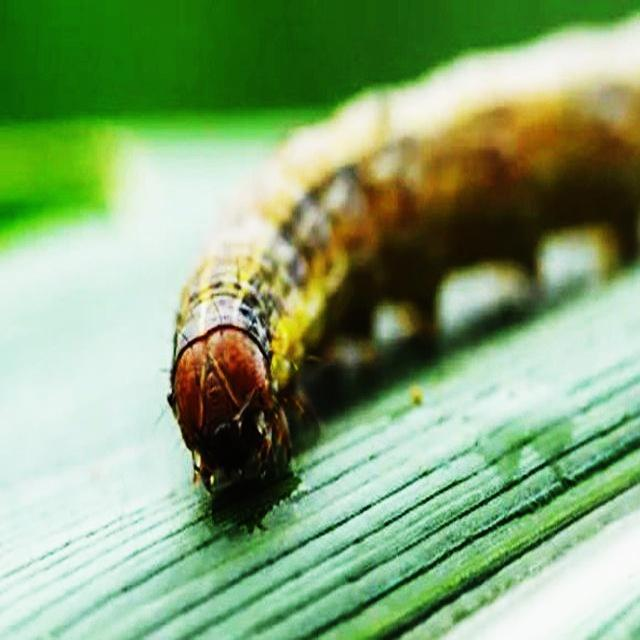Plaga: (161, 14, 640, 500)
